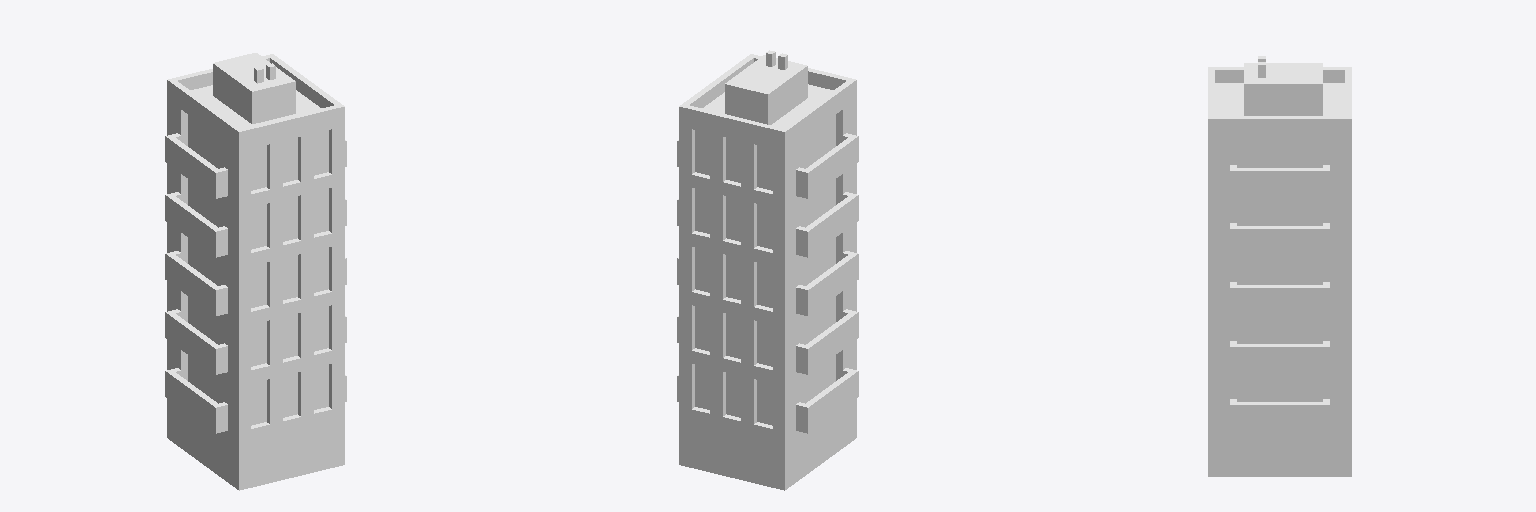
Rendered from highbuilding1.obj.
3 renders of one model, left to right at view 1: azimuth 30°, elevation 25°; view 2: azimuth 150°, elevation 25°; view 3: azimuth 270°, elevation 25°, orthographic.
Parts seen in each view (by area): view 1: highbuilding1; view 2: highbuilding1; view 3: highbuilding1.
Part boxes in pixels (x1,y1,x2,y2): highbuilding1: (165, 53, 346, 490); highbuilding1: (677, 50, 858, 490); highbuilding1: (1208, 56, 1351, 476).
Size of the model in its own units: 21 by 60 by 20.